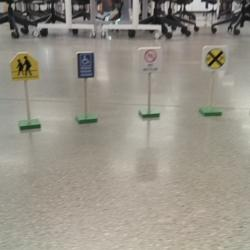disabled_persons_crossing: (76, 51, 95, 79)
no_bicycle: (137, 47, 162, 74)
railroad_crossing: (202, 45, 227, 71)
school_crossing: (9, 52, 40, 81)
